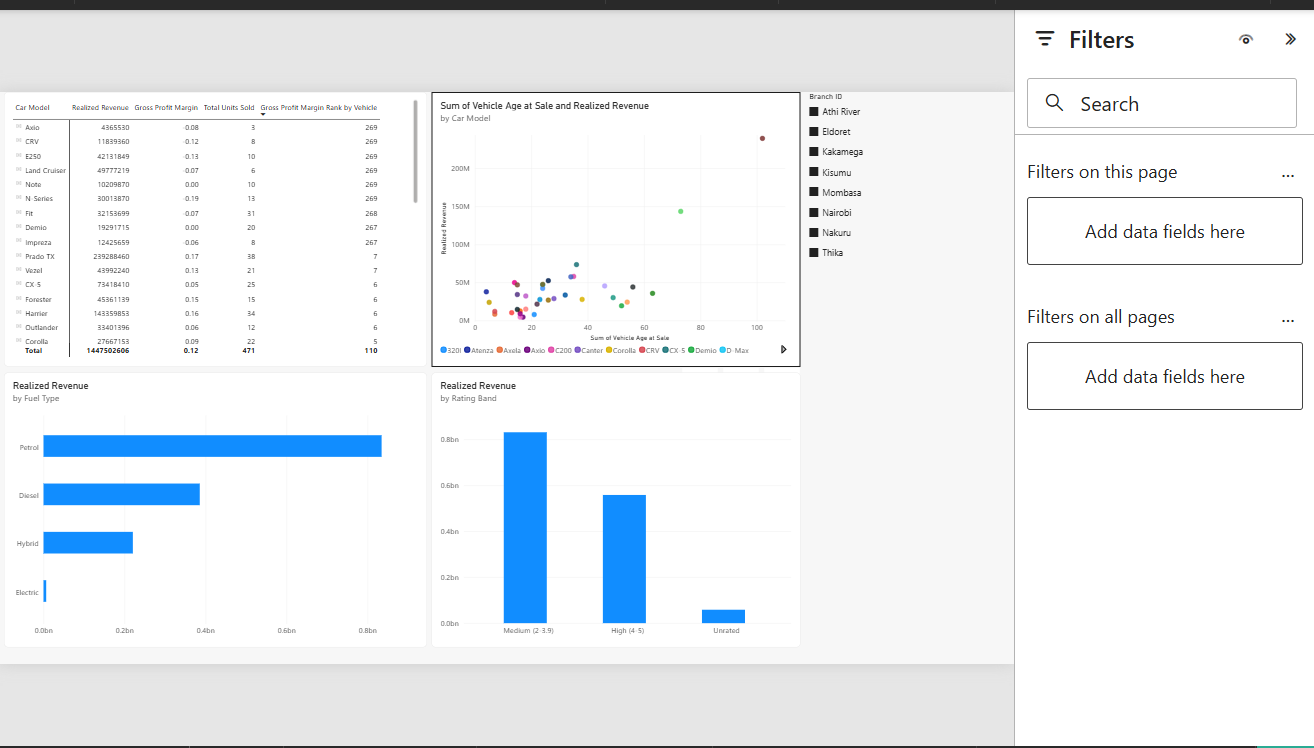

What the dashboard file says about the page in this screenshot:
{"tool":"powerbi","page":{"name":"Vehicle & Profitability","canvas":[1920,1080],"ordinal":2},"visuals":[{"type":"pivotTable","fields":{"Rows":["Dim_Vehicles.Car Model","Dim_Vehicles.Car Make"],"Values":["Fact_Orders.Realized Revenue","Fact_Orders.Gross Profit Margin","Fact_Orders.Total Units Sold","Fact_Orders.Gross Profit Margin Rank by Vehicle"]},"box":[11.3,0,799.4,518.7],"z":0},{"type":"clusteredBarChart","fields":{"Category":["Dim_Vehicles.Fuel Type"],"Y":["Fact_Orders.Realized Revenue"]},"box":[11,529,799,519],"z":1},{"type":"scatterChart","fields":{"Series":["Dim_Vehicles.Car Model"],"X":["Sum(Fact_Orders.Vehicle Age at Sale)"],"Y":["Fact_Orders.Realized Revenue"]},"box":[819.2,0,697.3,518.7],"z":2},{"type":"clusteredColumnChart","fields":{"Category":["Fact_Orders.Rating Band"],"Y":["Fact_Orders.Realized Revenue"]},"box":[819,529,697,519],"z":3},{"type":"slicer","fields":{"Values":["Dim_Branch.Branch ID"]},"box":[1525.1,0,394,379.8],"z":4}]}

Visuals, with their boxes on the page's 1920x1080 design canvas (x1, y1, x2, y2). These are canvas units, not pixel positions in the 1314x748 screenshot, which may show the page scaled, cropped or inside an application window:
pivotTable - Dim_Vehicles.Car Model x Dim_Vehicles.Car Make: [x1=11, y1=0, x2=811, y2=519]
clusteredBarChart - Dim_Vehicles.Fuel Type x Fact_Orders.Realized Revenue: [x1=11, y1=529, x2=810, y2=1048]
scatterChart - Dim_Vehicles.Car Model x Sum(Fact_Orders.Vehicle Age at Sale): [x1=819, y1=0, x2=1516, y2=519]
clusteredColumnChart - Fact_Orders.Rating Band x Fact_Orders.Realized Revenue: [x1=819, y1=529, x2=1516, y2=1048]
slicer - Dim_Branch.Branch ID: [x1=1525, y1=0, x2=1919, y2=380]
